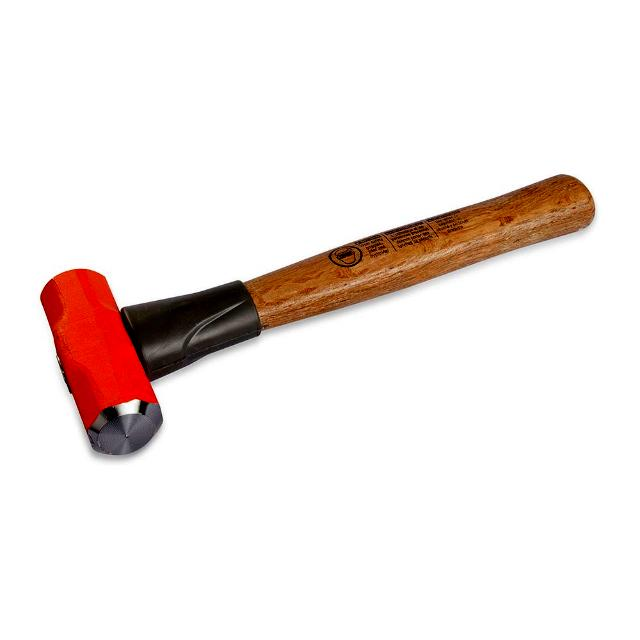hammer: (31, 166, 603, 464)
